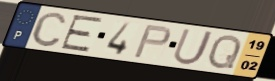4: (104, 21, 134, 58)
C: (29, 10, 69, 48)
E: (58, 14, 106, 53)
P: (131, 24, 173, 60)
Q: (206, 33, 244, 70)
U: (171, 27, 217, 67)
